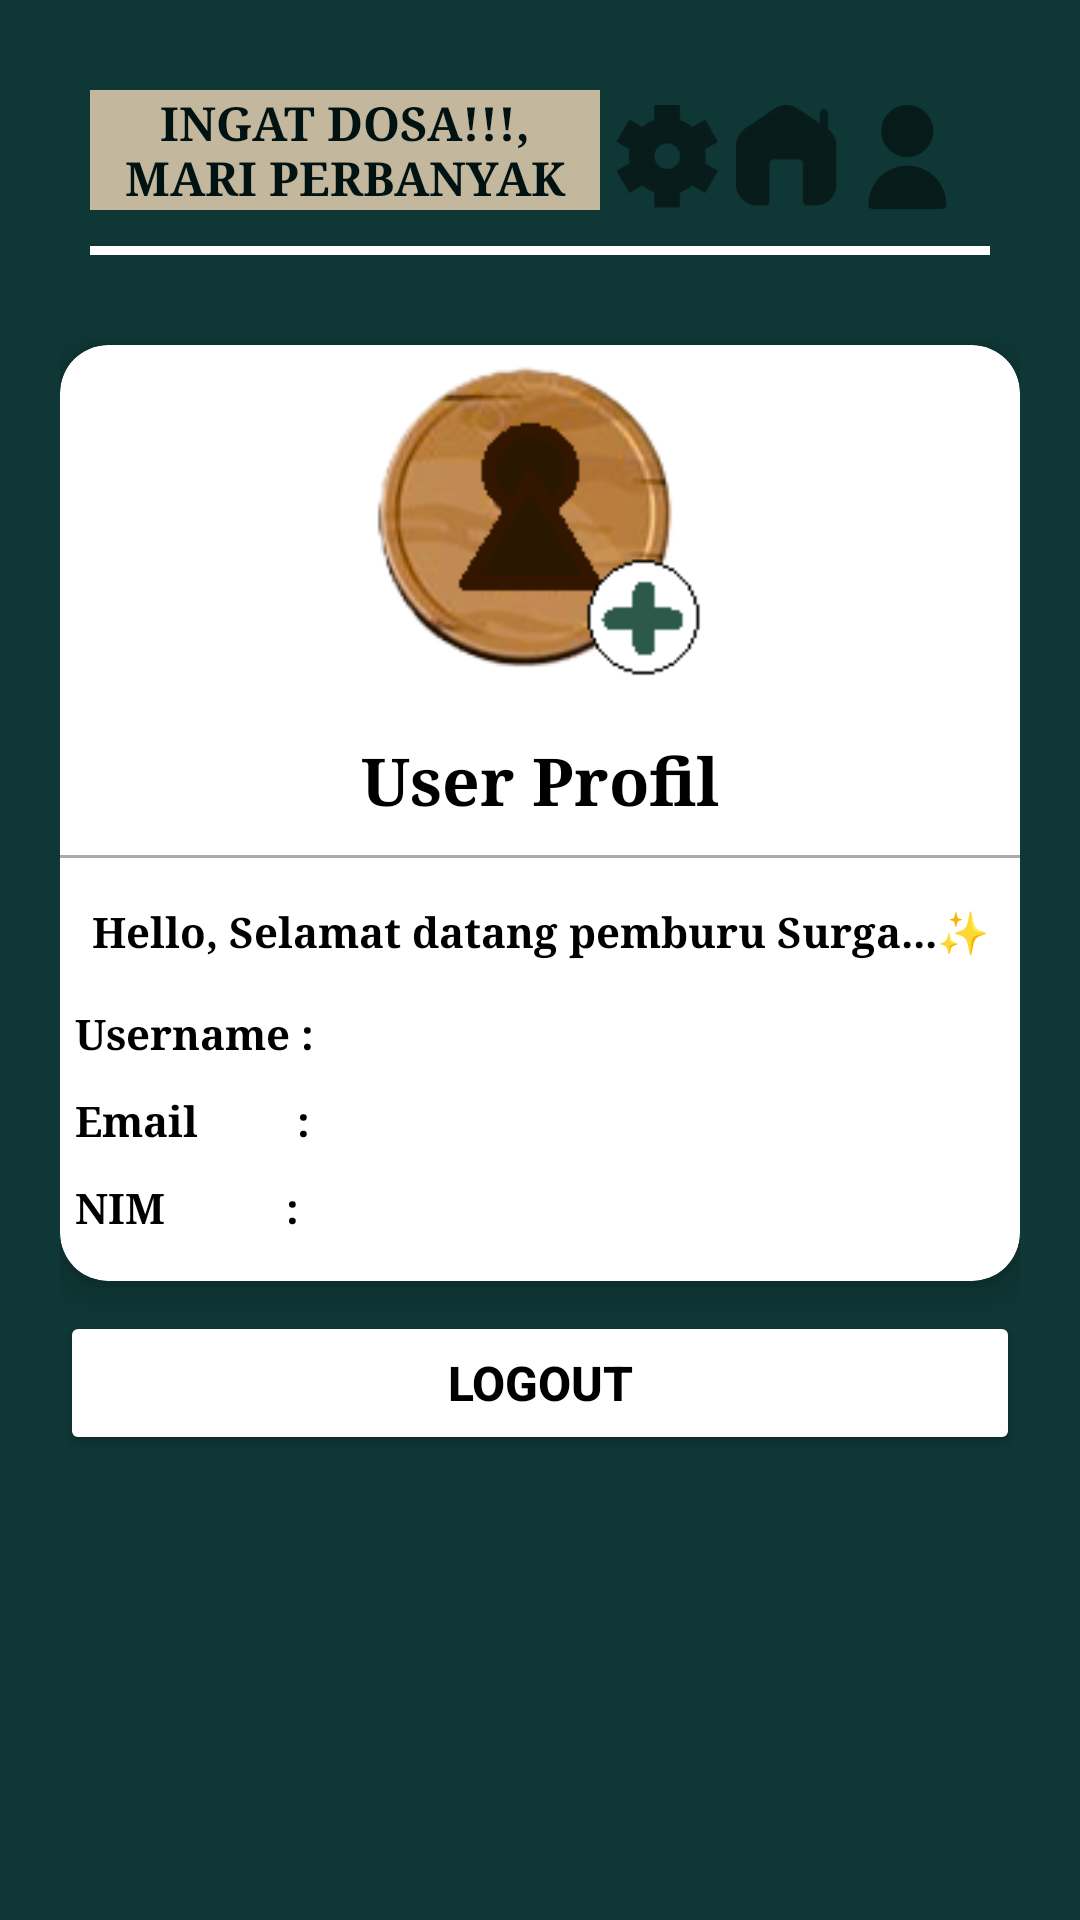

Where icons sit on this 1080px x 1920px app screen, as (x1, y1, x2, y2):
Foto Profil: (377, 368, 700, 675)
Home: (736, 105, 836, 205)
Pengaturan: (618, 105, 717, 207)
User Profile: (869, 105, 946, 209)
